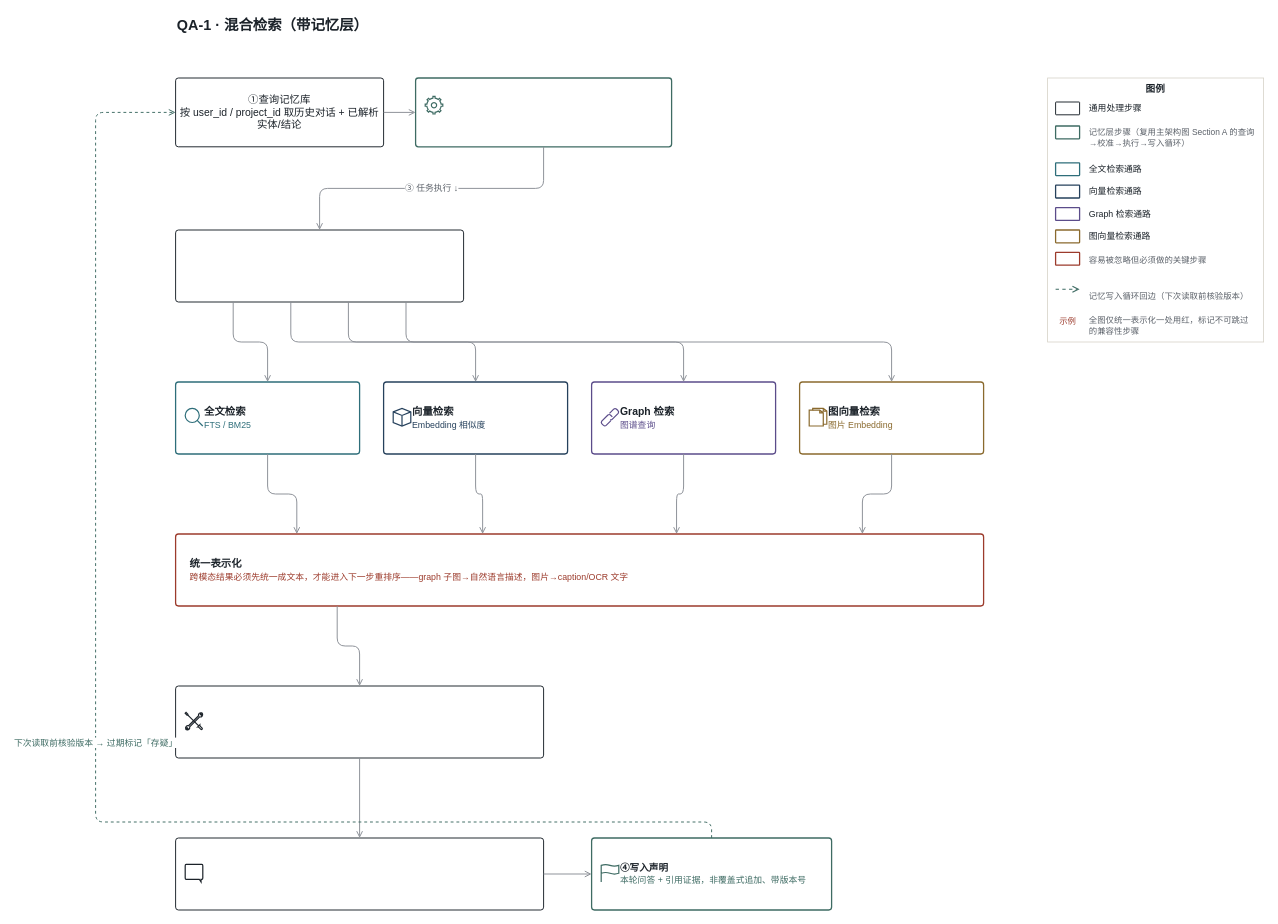
Some shapes in this 1278 by 924 pixel diagram are drawn without their labels. Each missing label, with the box of its shape:
②分层校准 强模型全量 / 弱模型精选摘要 / 接近上限跳过: (415, 77, 672, 147)
生成回答 基于排序后上下文生成，附出处: (175, 837, 544, 910)
重排序 Rerank 合并4路统一表示化结果，统一打分，取 top-k: (175, 685, 544, 758)
问题解析 结合记忆做指代消解 / query 改写，判断意图: (175, 229, 464, 302)
